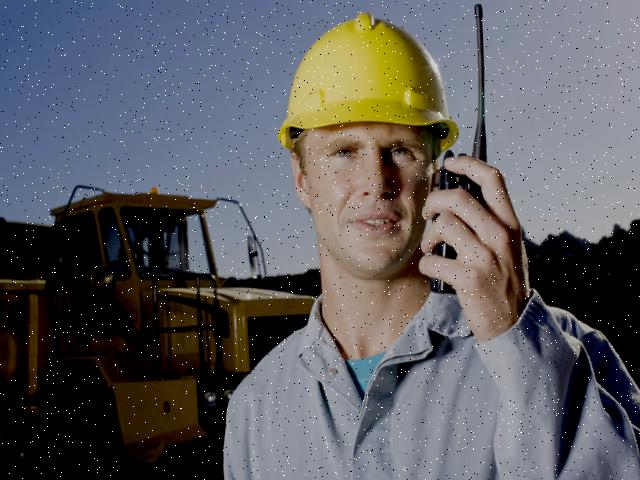Helmet: (272, 8, 464, 164)
